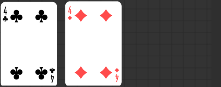4C: (48, 66, 56, 83)
4D: (113, 66, 120, 83)
